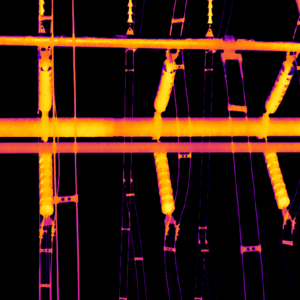insulator: (261, 146, 290, 210), (264, 60, 294, 113), (152, 146, 175, 215), (152, 56, 177, 111), (36, 150, 54, 216), (37, 56, 53, 112), (126, 0, 133, 21), (207, 0, 213, 24)
